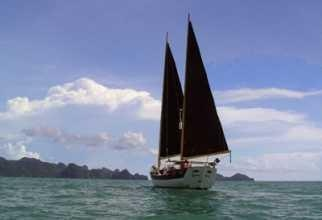fanchuan: (144, 9, 233, 190)
